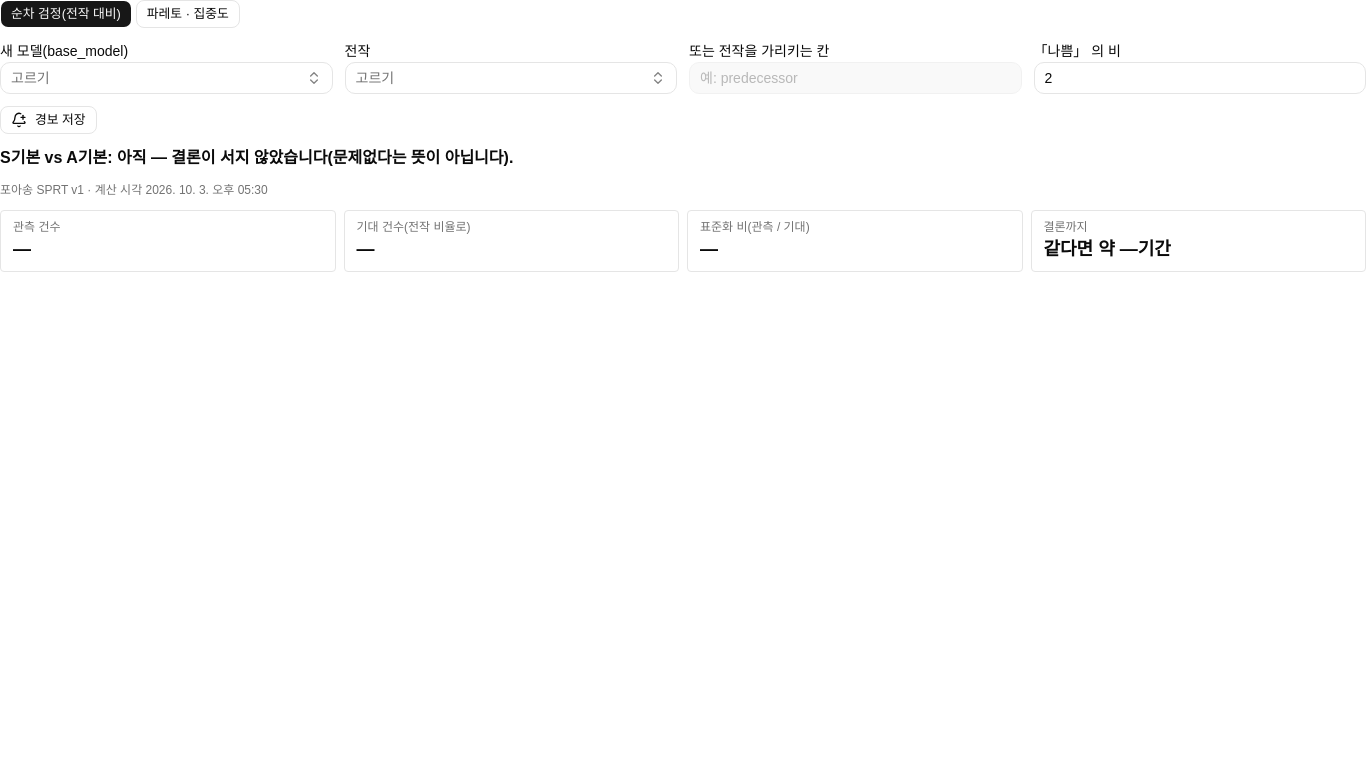
분석 탭 › 링크가 연 순차 검정은 그 인자로 묻고, 경보 저장은 같은 인자를 저장한다
This screenshot has width=1366, height=768.
Click the button "경보 저장".
click(48, 120)  # box [0,106,97,134]
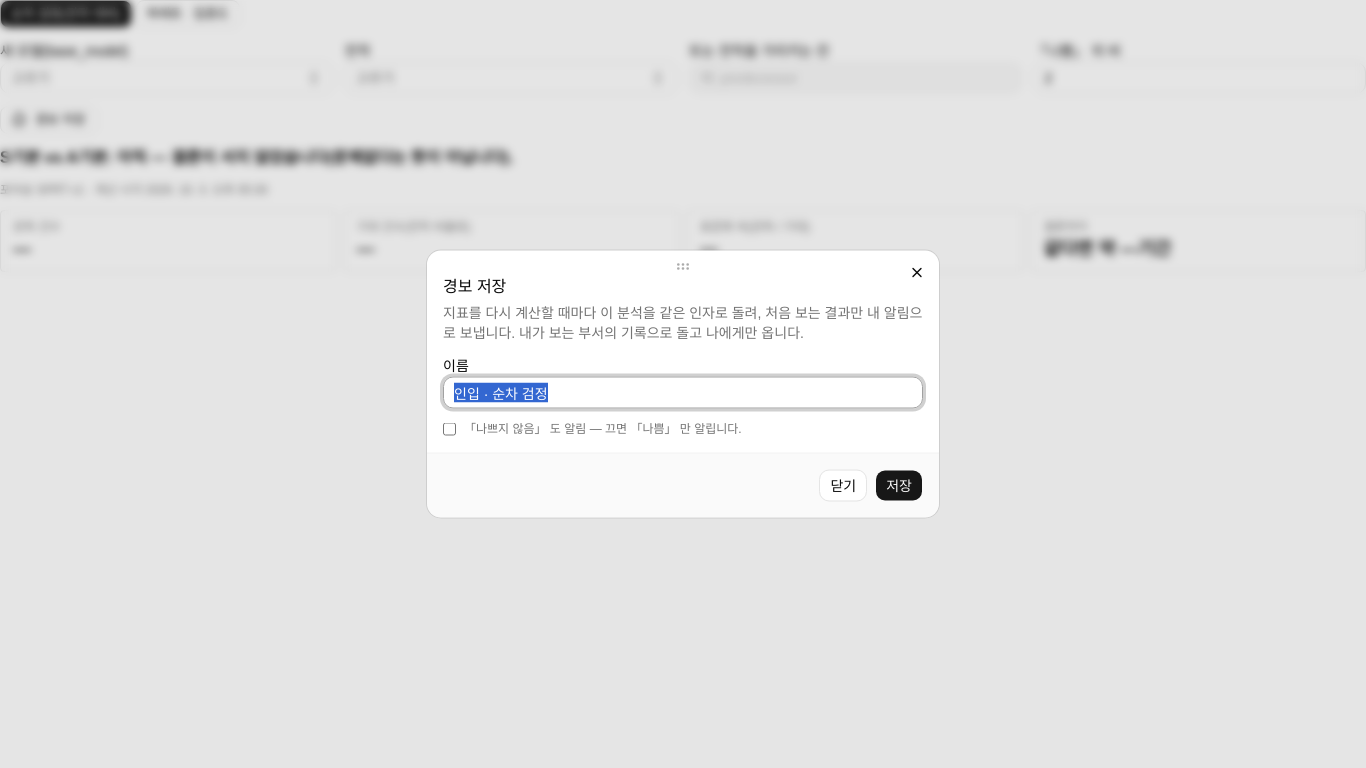
Expected: the field labelled "이름" holds "인입 · 순차 검정", [443,376,923,408]
Click the button "저장".
click(899, 486)  # box [875,470,923,502]
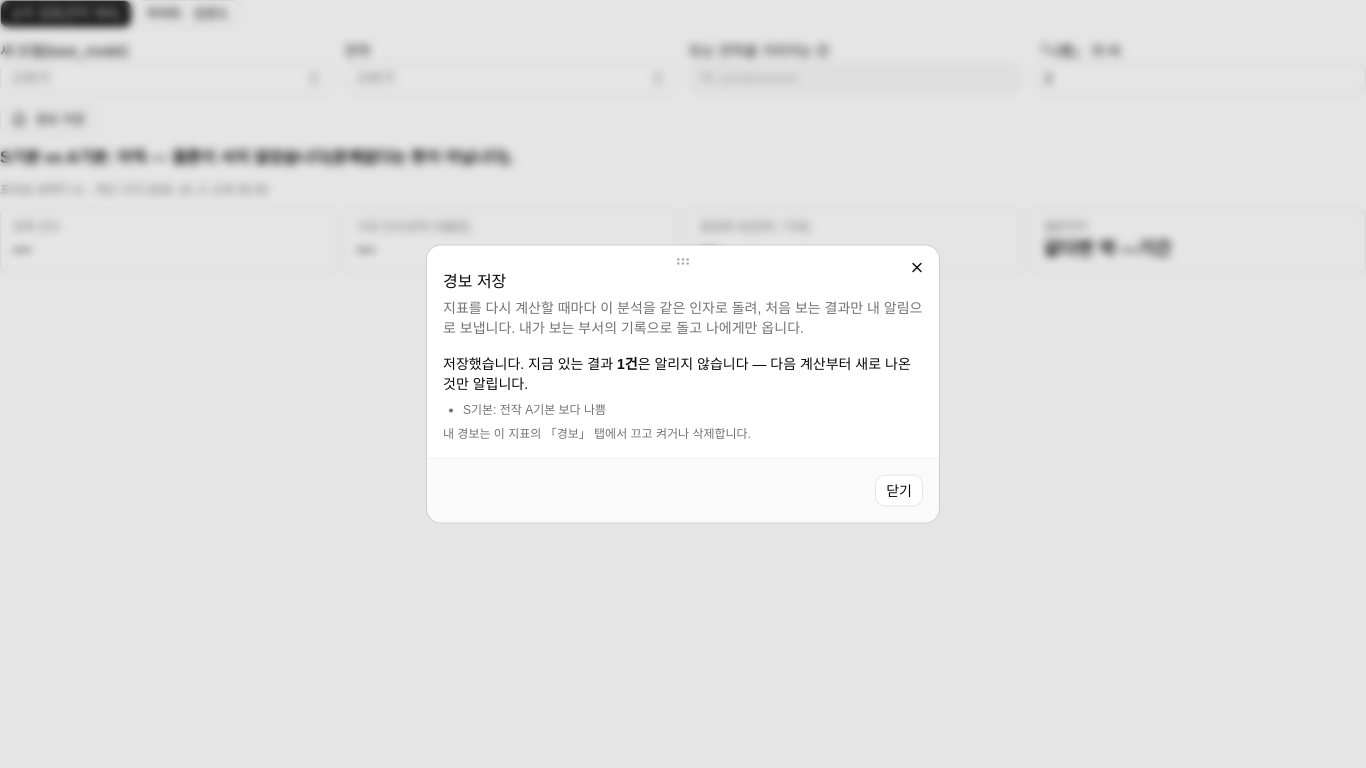
Expected: the text "저장했습니다. 지금 있는 결과 1건은 알리지 않습니다 — 다음 계산부터 새로 나온 것만 알립니다." is shown, [443,354,923,394]
Expected: the list item "S기본: 전작 A기본 보다 나쁨" is shown, [463,402,606,416]
